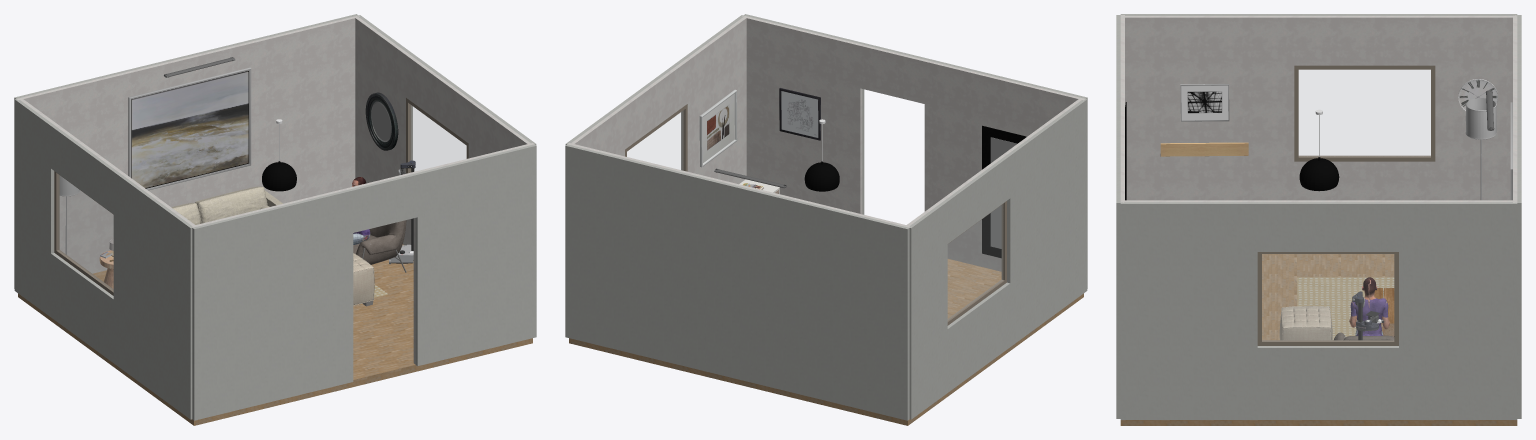
Rendered from accept-after.glb.
3 renders of one model, left to right at view 1: azimuth 30°, elevation 25°; view 2: azimuth 150°, elevation 25°; view 3: azimuth 270°, elevation 25°, orthographic. The views are drawn at different scales.
Visible parts, largest first — view 1: room__room_geometry_living_room__v4__0_0, room__room_geometry_living_room__v1__0_0, room__room_geometry_living_room__v10__0_0, room__living_room_painting_0__0_0, room__room_geometry_living_room__v5__0_0, room__room_geometry_living_room__v0__0_0, room__room_geometry_living_room__v9__0_0, room__room_geometry_living_room__v6__0_0, room__living_room_sofa_0__0_0, room__living_room_armchair_0__0_0, room__living_room_mirror_1__0_0, room__room_geometry_living_room__v3__0_0 (+7 smaller); view 2: room__room_geometry_living_room__v2__0_0, room__room_geometry_living_room__v3__0_0, room__room_geometry_living_room__v10__0_0, room__room_geometry_living_room__v5__0_0, room__room_geometry_living_room__v0__0_0, room__room_geometry_living_room__v9__0_0, room__living_room_art_print_0__0_0, room__living_room_mirror_0__0_0, room__room_geometry_living_room__v6__0_0, room__living_room_line_drawing_print_0__0_0, room__room_geometry_living_room__v4__0_0, room__living_room_pendant_light_0__0_0 (+5 smaller); view 3: room__room_geometry_living_room__v7__0_0, room__room_geometry_living_room__v8__0_0, room__room_geometry_living_room__v6__0_0, room__room_geometry_living_room__v9__0_0, room__room_geometry_living_room__v0__0_0, room__living_room_rug_0__0_0, room__room_geometry_living_room__v9__0_1, room__room_geometry_living_room__v2__0_0, room__room_geometry_living_room__v4__0_0, room__room_geometry_living_room__v6__0_1, room__living_room_photograph_0__0_0, room__living_room_ottoman_0__0_0 (+10 smaller).
Part boxes in pixels (x1,y1,x2,y2): room__room_geometry_living_room__v4__0_0: (192, 144, 536, 420); room__room_geometry_living_room__v1__0_0: (17, 15, 359, 273); room__room_geometry_living_room__v10__0_0: (14, 99, 192, 419); room__living_room_painting_0__0_0: (128, 67, 251, 190); room__room_geometry_living_room__v5__0_0: (354, 16, 530, 245); room__room_geometry_living_room__v0__0_0: (18, 244, 532, 425); room__room_geometry_living_room__v9__0_0: (58, 175, 113, 289); room__room_geometry_living_room__v6__0_0: (410, 105, 466, 172); room__living_room_sofa_0__0_0: (171, 186, 282, 224); room__living_room_armchair_0__0_0: (353, 220, 406, 272); room__living_room_mirror_1__0_0: (365, 92, 398, 150); room__room_geometry_living_room__v3__0_0: (192, 143, 533, 364); room__room_geometry_living_room__v2__0_0: (565, 144, 909, 420); room__room_geometry_living_room__v3__0_0: (742, 15, 1084, 271); room__room_geometry_living_room__v10__0_0: (909, 99, 1087, 419); room__room_geometry_living_room__v5__0_0: (570, 17, 746, 184); room__room_geometry_living_room__v0__0_0: (569, 259, 1083, 425); room__room_geometry_living_room__v9__0_0: (948, 204, 1002, 319); room__living_room_art_print_0__0_0: (699, 89, 737, 167); room__living_room_mirror_0__0_0: (982, 125, 1026, 258); room__room_geometry_living_room__v6__0_0: (627, 111, 683, 170); room__living_room_line_drawing_print_0__0_0: (779, 88, 820, 140); room__room_geometry_living_room__v4__0_0: (743, 14, 1087, 288); room__living_room_pendant_light_0__0_0: (804, 119, 839, 191); room__room_geometry_living_room__v7__0_0: (1120, 202, 1517, 419); room__room_geometry_living_room__v8__0_0: (1125, 16, 1517, 200); room__room_geometry_living_room__v6__0_0: (1262, 254, 1393, 340); room__room_geometry_living_room__v9__0_0: (1299, 70, 1430, 156); room__room_geometry_living_room__v0__0_0: (1120, 254, 1517, 425); room__living_room_rug_0__0_0: (1297, 277, 1394, 340); room__room_geometry_living_room__v9__0_1: (1294, 65, 1435, 161); room__room_geometry_living_room__v2__0_0: (1517, 15, 1521, 418); room__room_geometry_living_room__v4__0_0: (1116, 15, 1120, 418); room__room_geometry_living_room__v6__0_1: (1257, 252, 1398, 345); room__living_room_photograph_0__0_0: (1180, 84, 1229, 121); room__living_room_ottoman_0__0_0: (1279, 306, 1332, 340).
Bounding box in the file's own units: 5.1 × 2.8 × 4.6.
Materials: 55 (32 with a texture image).
